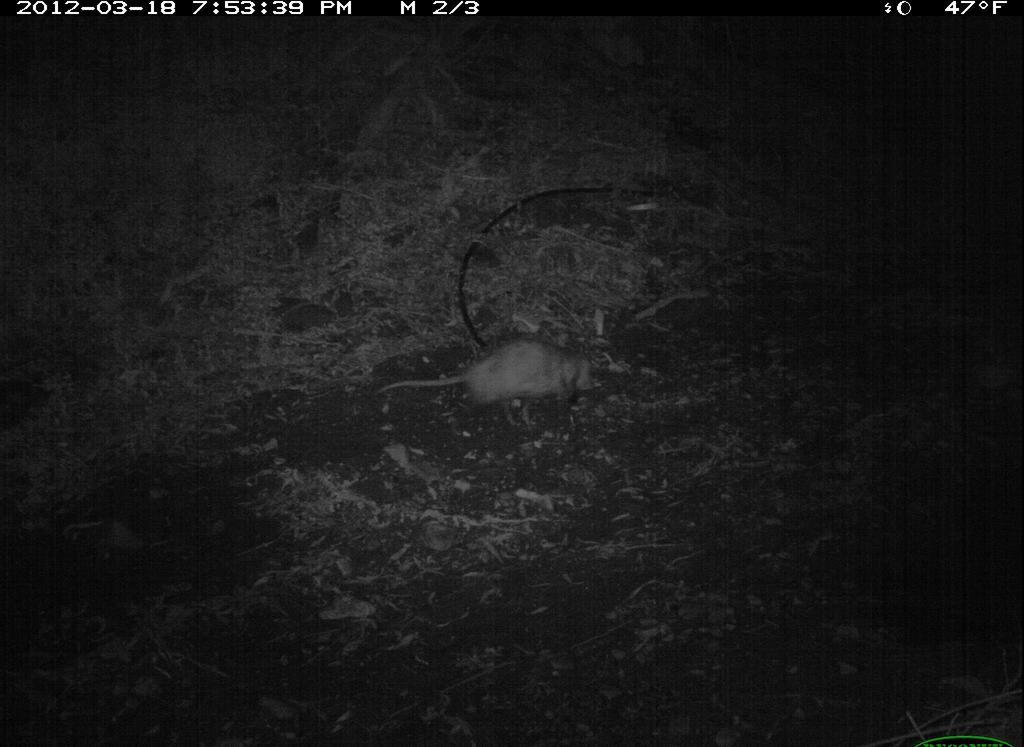opossum: (364, 336, 614, 432)
